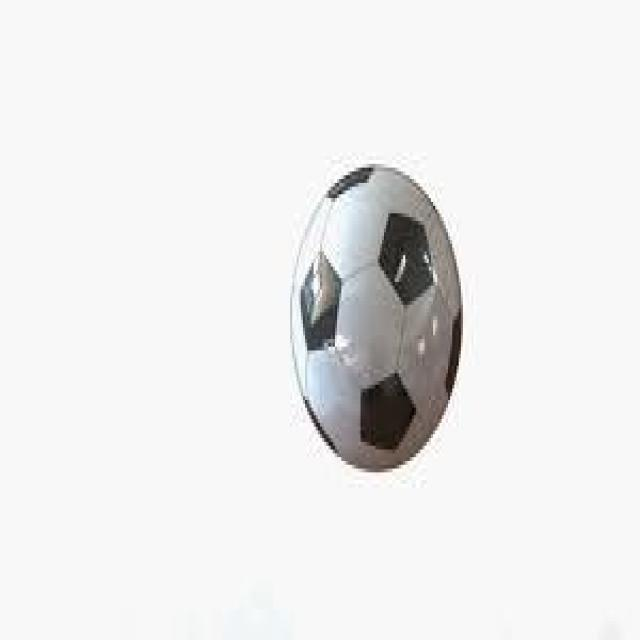Soccer Ball: (290, 160, 463, 472)
